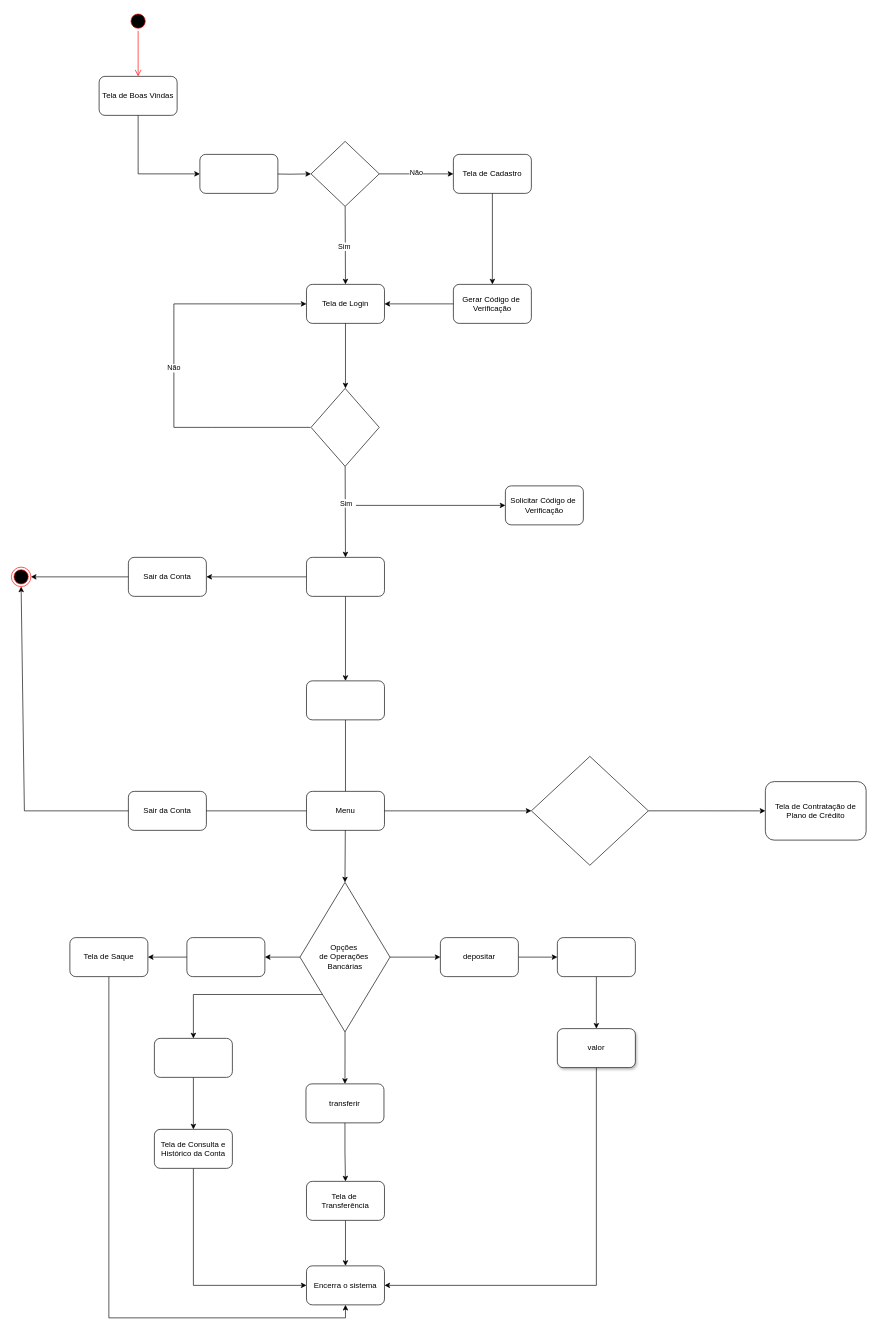
Some shapes in this 877 by 1334 pixel diagram are drawn without their labels. Here are the shapes that lost their labels. From the top down, the centre of each, then its label:
[238,173]: Opção de Cadastro e Login
[344,173]: Tem Cadastro?
[344,427]: ( Verificação ) O Login está correto?
[345,576]: Tela inicial
[345,700]: Opção de Criação de Conta Bancária
[589,810]: Opção para Contratar Plano de Crédito
[225,957]: saque
[596,957]: Tela de Depósito
[193,1057]: Consulta/Histórico
